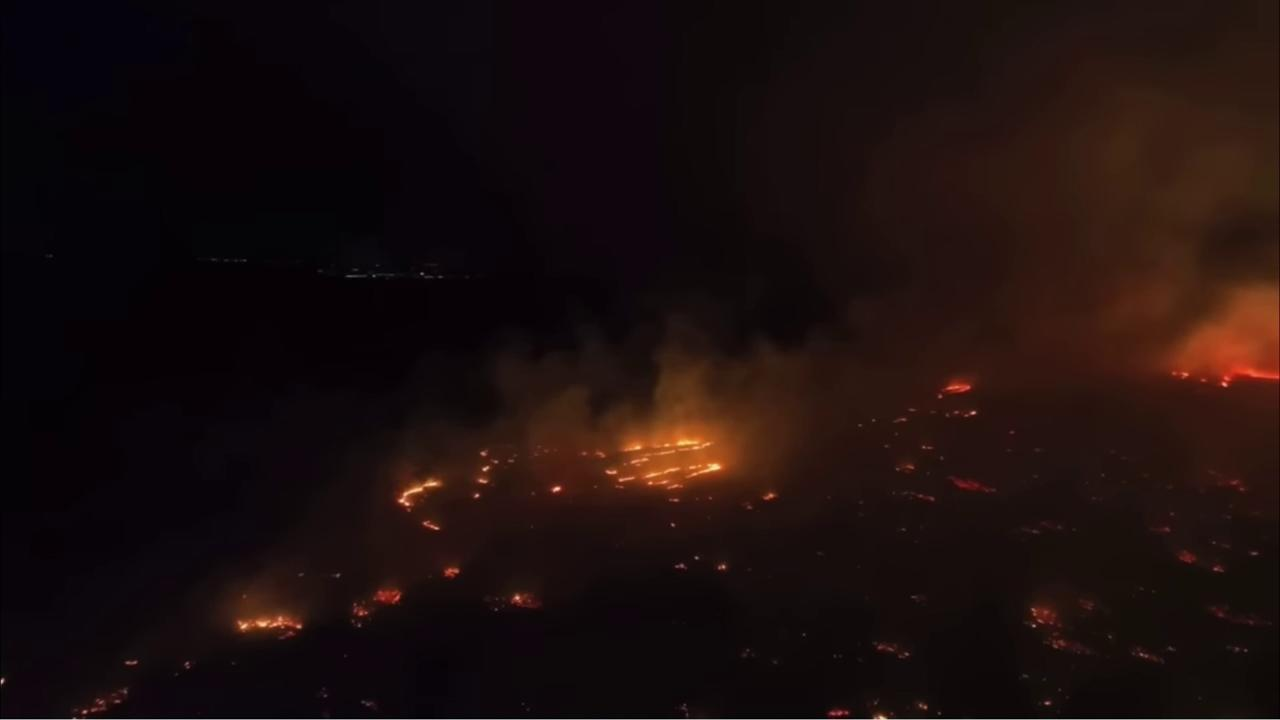fire: (581, 438, 722, 490), (1022, 599, 1105, 659), (1168, 362, 1280, 389), (347, 582, 405, 631), (230, 613, 305, 640), (70, 687, 132, 718), (395, 474, 443, 513), (946, 472, 999, 495), (872, 639, 914, 663), (507, 589, 548, 613), (1130, 640, 1166, 667), (1173, 546, 1200, 565), (1204, 601, 1227, 622), (938, 381, 972, 395), (442, 565, 464, 583), (906, 491, 936, 503), (419, 519, 443, 533), (894, 460, 917, 474), (760, 490, 780, 503), (870, 710, 897, 719), (123, 657, 141, 669), (827, 709, 850, 718), (1211, 563, 1226, 576), (551, 484, 564, 496), (182, 659, 193, 673), (475, 477, 491, 486), (916, 700, 930, 710), (963, 409, 977, 419), (715, 562, 728, 572), (479, 447, 489, 459), (479, 465, 491, 473), (473, 492, 481, 501)
smoke: (152, 0, 1280, 670)
